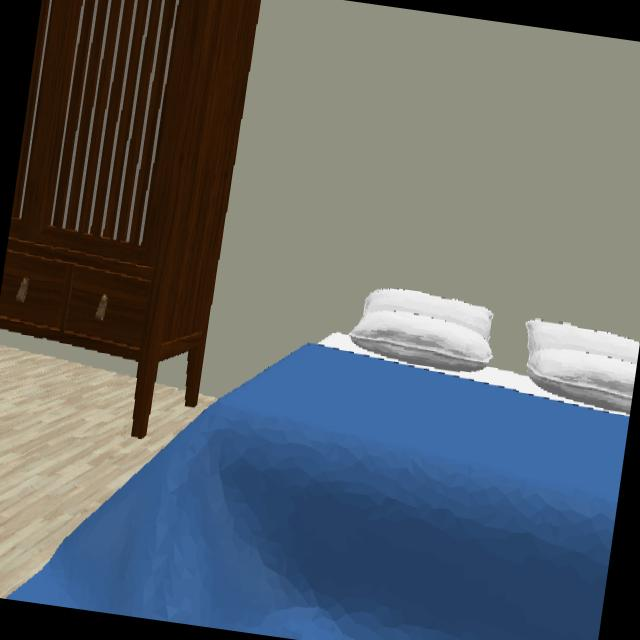bed: (7, 290, 640, 640)
pillow: (317, 289, 494, 375), (525, 319, 639, 416)
